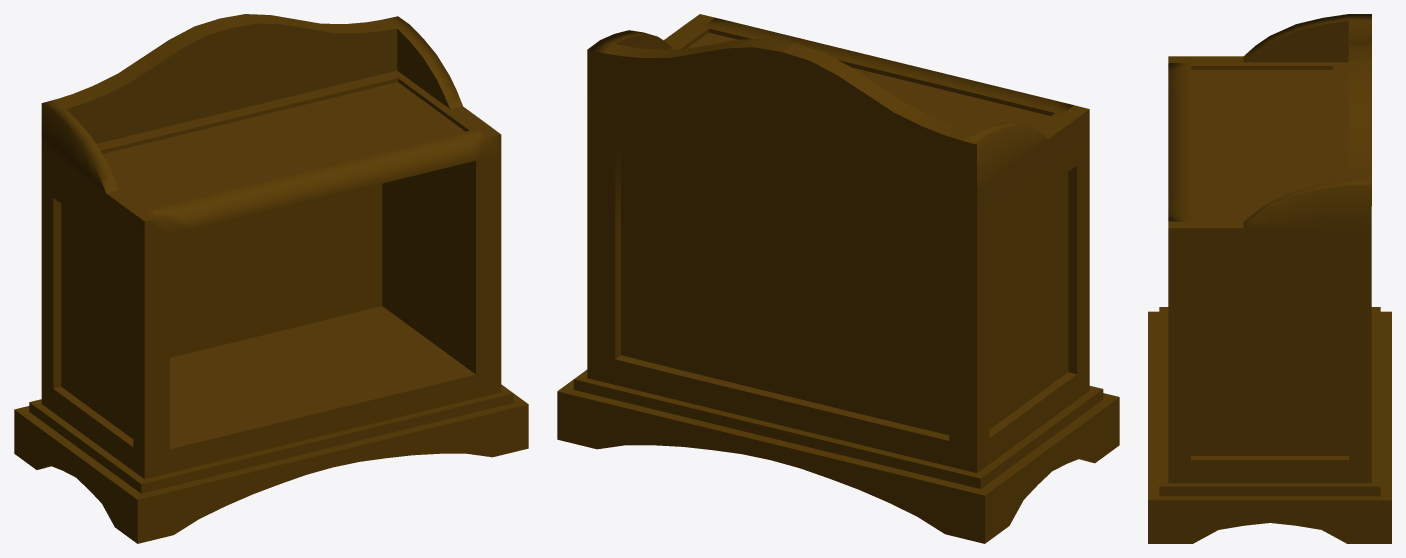
File: Chest_Empty_low.fbx
3 renders of one model, left to right at view 1: azimuth 30°, elevation 25°; view 2: azimuth 150°, elevation 25°; view 3: azimuth 270°, elevation 25°, orthographic. The views are drawn at different scales.
Parts seen in each view (by area): view 1: Chest_Empty_low; view 2: Chest_Empty_low; view 3: Chest_Empty_low.
Boxes of the visible parts, x1=… form: Chest_Empty_low: x1=14, y1=14, x2=528, y2=543; Chest_Empty_low: x1=557, y1=14, x2=1119, y2=543; Chest_Empty_low: x1=1148, y1=14, x2=1391, y2=543.
Size of the model in its own units: 127 by 122 by 69.33.
